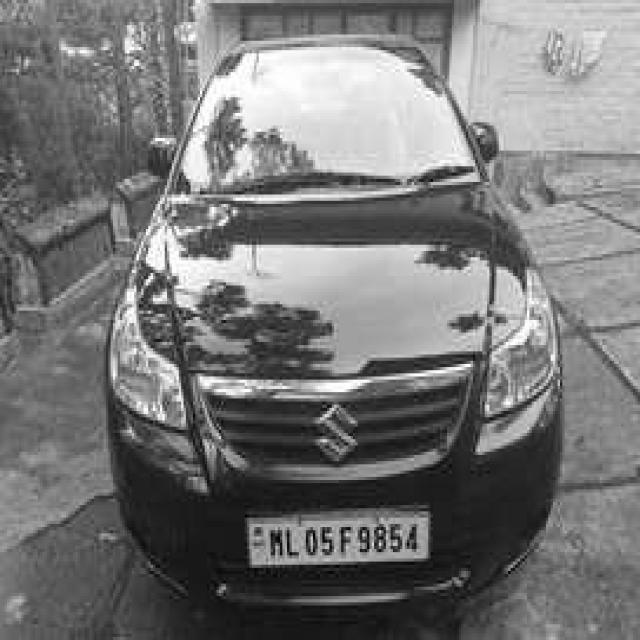car: (101, 31, 567, 624)
license-plate: (242, 518, 430, 564)
